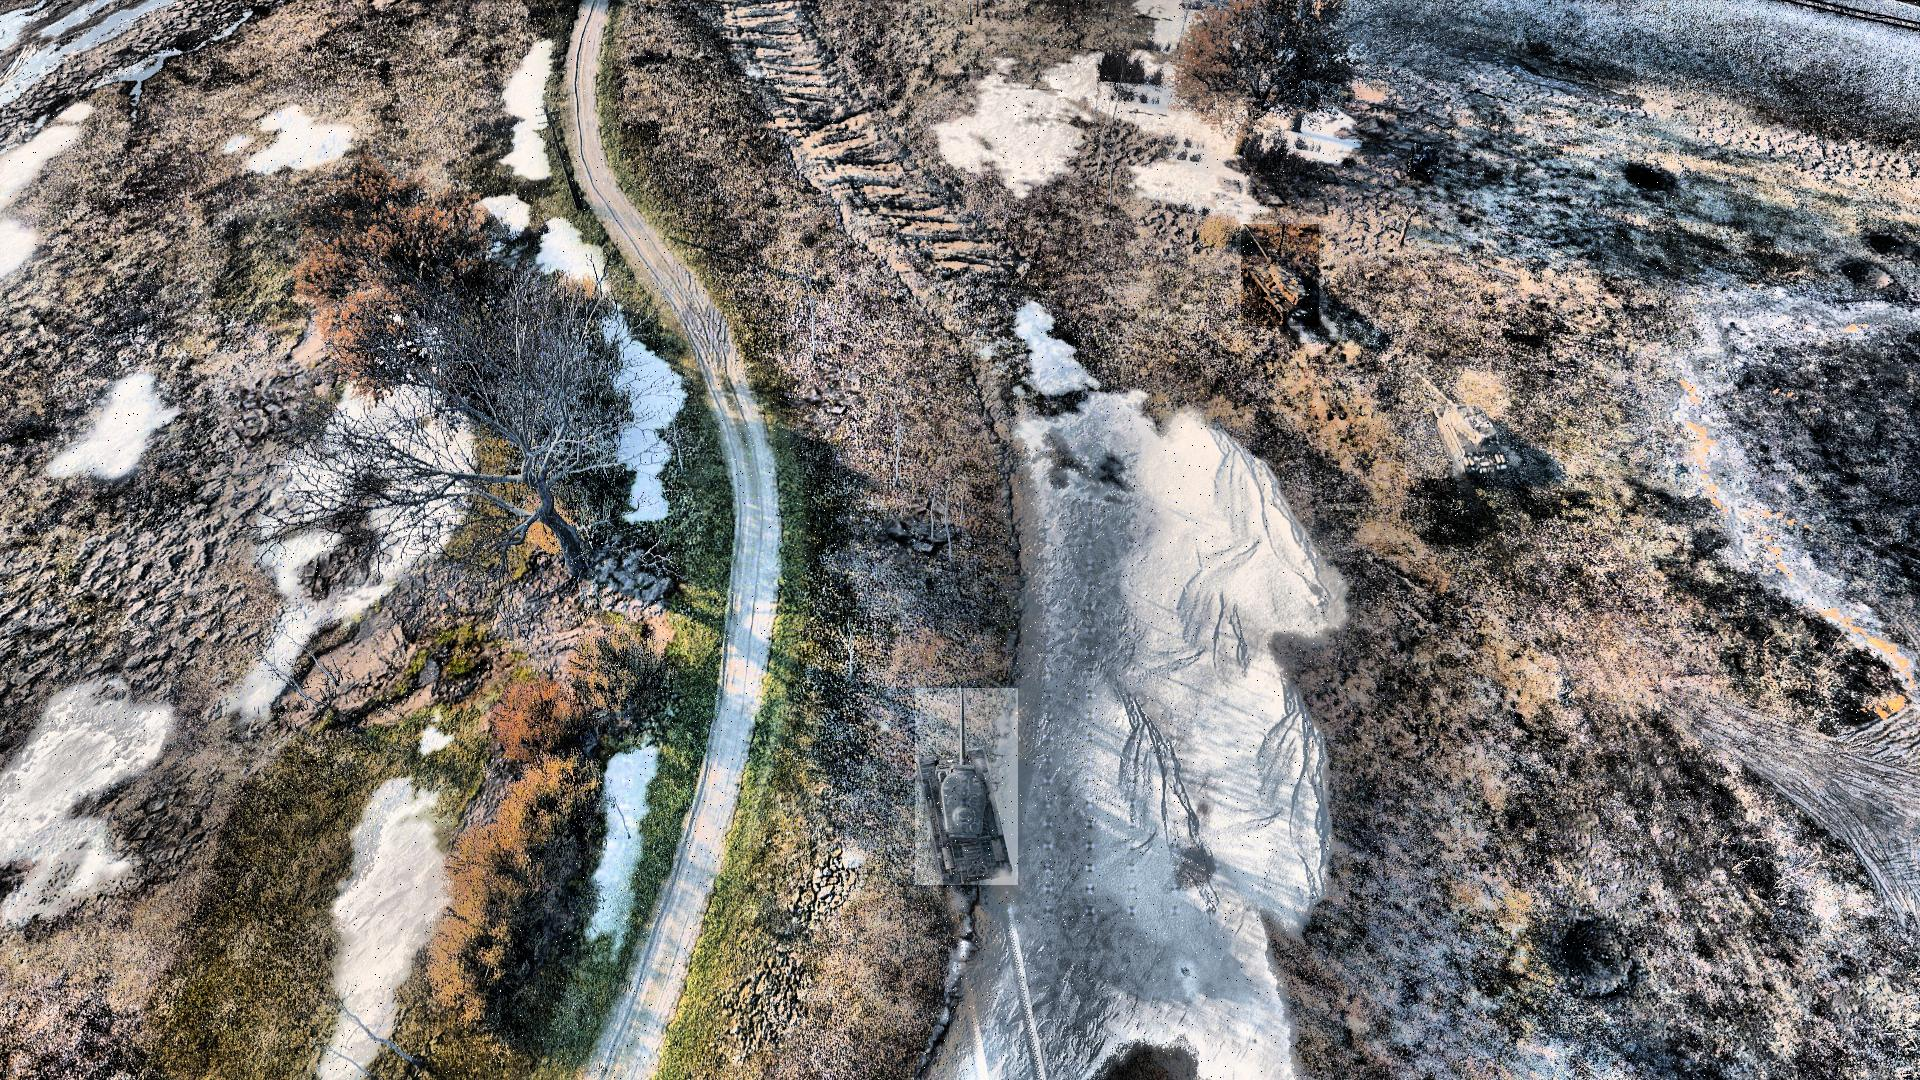military-vehicle: (915, 688, 1018, 885), (1404, 359, 1510, 479), (1242, 225, 1320, 327)
